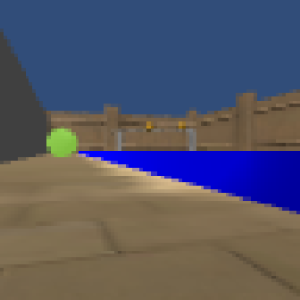goodGoal: (48, 121, 80, 162)
goodGoalMulti: (144, 119, 156, 133), (176, 118, 187, 132)
platform: (78, 146, 300, 219)
wall: (1, 26, 47, 164), (189, 128, 200, 150), (116, 130, 124, 152)
